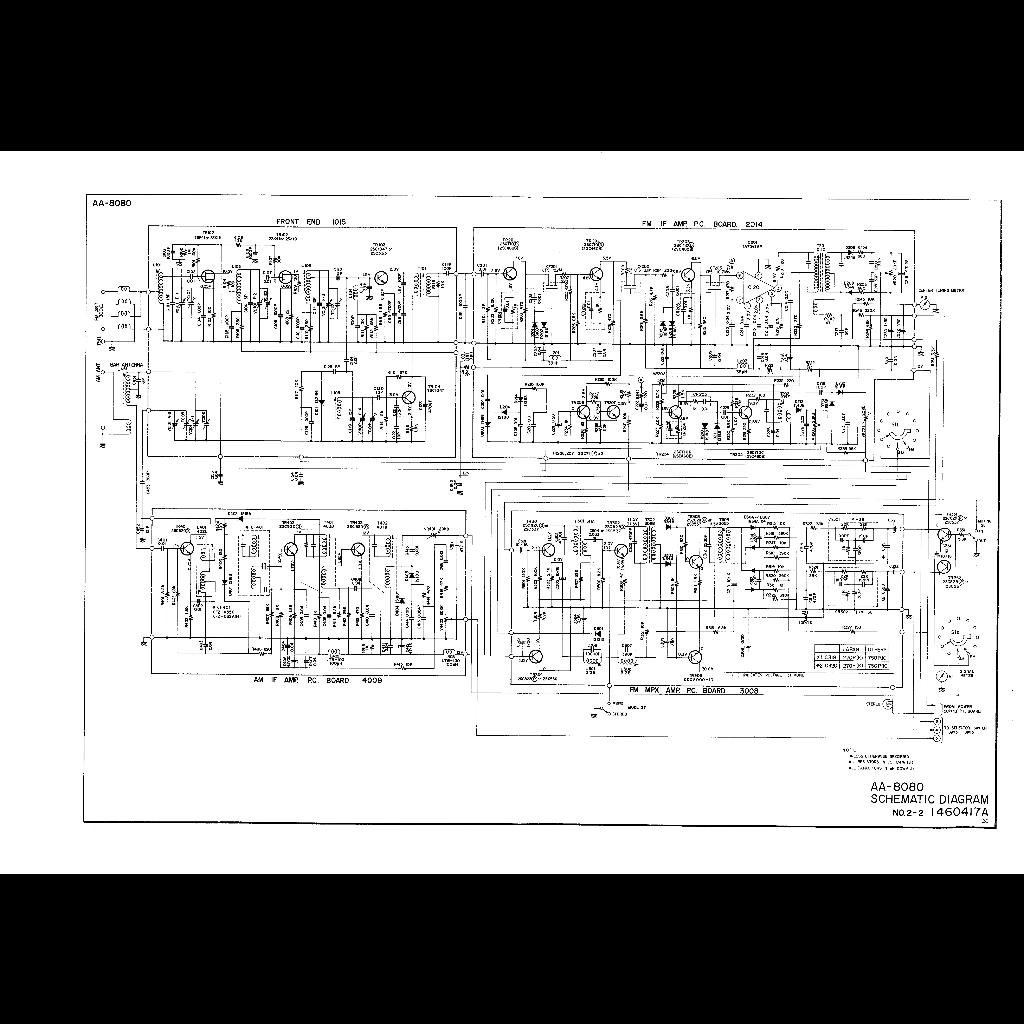Diagram: (84, 190, 1000, 830)
